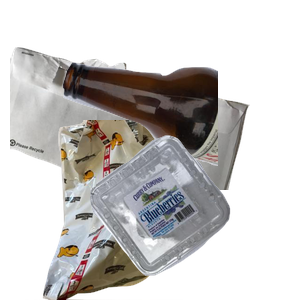glass: (60, 59, 300, 217)
paper: (10, 45, 250, 225)
plastic: (88, 133, 300, 300)
trash: (25, 120, 198, 300)
